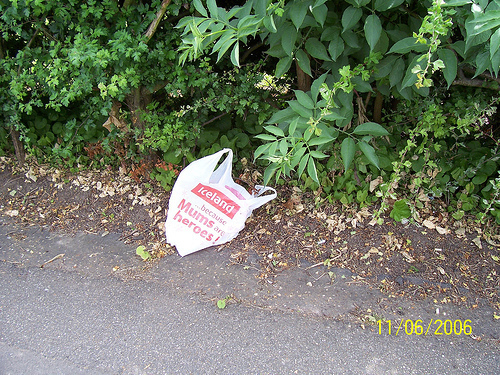litter: (163, 148, 277, 256)
